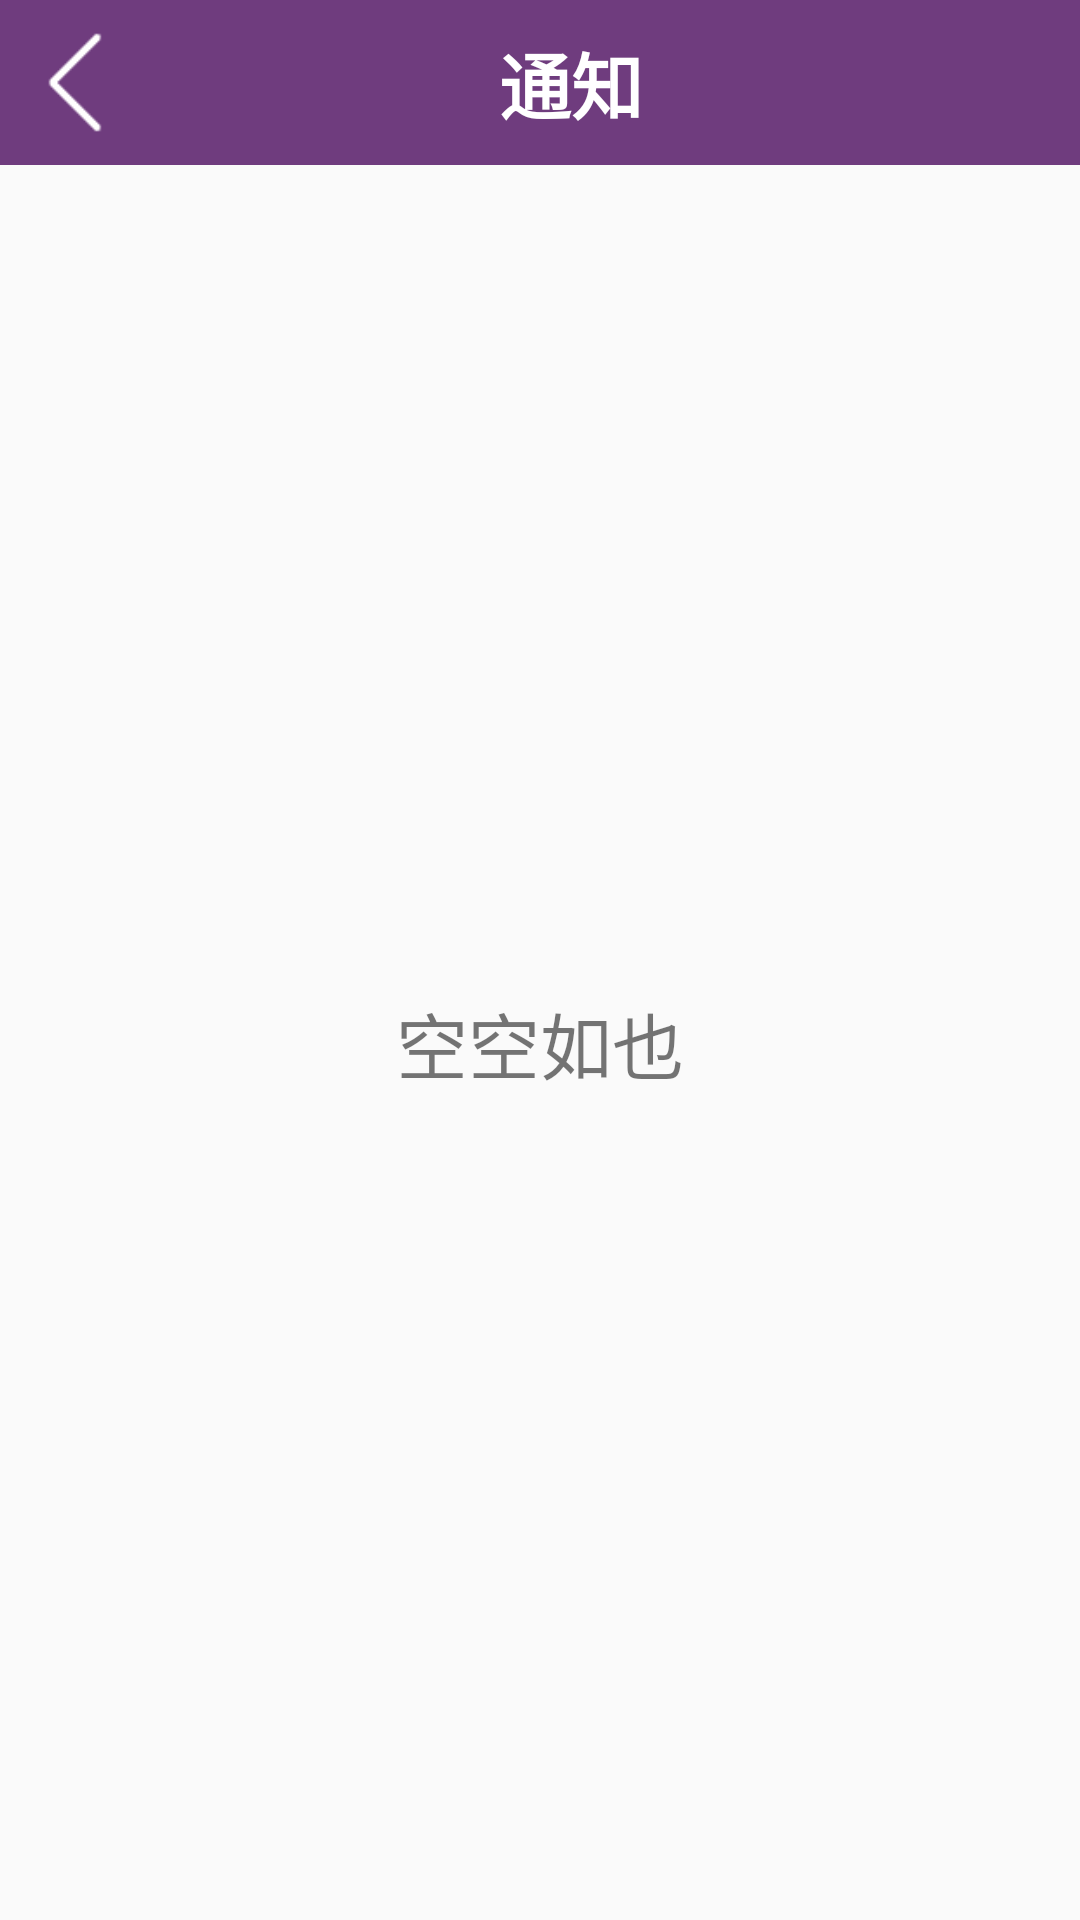

Screen size 1080px×1920px. Icon name, then its center in pixels as [x,y]:
backs: [74,82]
